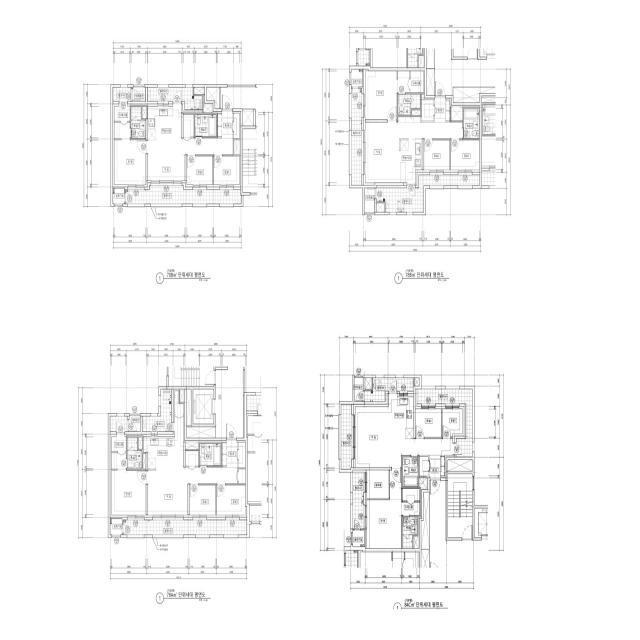space_balconi: (376, 175, 479, 212), (417, 389, 472, 457), (125, 186, 241, 204), (123, 520, 247, 535), (142, 389, 171, 432), (148, 87, 202, 110), (365, 378, 414, 402), (351, 88, 362, 185), (341, 405, 351, 470), (353, 472, 363, 529), (113, 87, 131, 101)
space_bedroom: (367, 470, 401, 548), (365, 71, 397, 119), (112, 470, 146, 515), (114, 140, 146, 184), (451, 140, 479, 170), (217, 485, 245, 515), (424, 140, 450, 170), (190, 485, 216, 515), (187, 156, 213, 185), (415, 409, 441, 437), (214, 156, 239, 185), (442, 409, 462, 437)
space_dressroom: (114, 104, 130, 139), (398, 71, 423, 93), (112, 434, 126, 469), (402, 489, 419, 515)
space_elevator: (193, 389, 214, 424)
space_elevator_hall: (216, 370, 243, 438)
space_front: (222, 439, 238, 467), (217, 111, 233, 138), (435, 97, 450, 122), (429, 455, 445, 476)
space_kitchen: (143, 391, 183, 468), (148, 104, 181, 138), (389, 394, 413, 439), (399, 139, 422, 183)
space_living_room: (365, 117, 463, 183), (355, 407, 453, 467), (148, 467, 238, 515), (148, 138, 233, 181)
space_multipurpose_space: (367, 470, 389, 498)
space_other: (110, 416, 140, 432), (421, 492, 429, 549), (187, 427, 216, 438), (206, 87, 220, 109), (448, 460, 472, 471), (183, 114, 194, 137), (422, 100, 434, 121), (354, 378, 363, 402), (365, 188, 374, 212), (185, 451, 199, 466), (132, 87, 146, 101), (419, 457, 428, 476), (243, 109, 253, 126), (451, 107, 463, 121), (239, 442, 245, 468), (234, 113, 240, 138), (187, 389, 191, 425), (185, 442, 199, 449), (239, 469, 245, 484), (234, 140, 240, 155), (419, 478, 427, 488), (365, 378, 372, 389), (376, 203, 384, 212), (194, 87, 204, 94), (204, 105, 212, 113), (142, 107, 147, 119), (138, 437, 142, 449), (414, 536, 418, 548), (143, 454, 146, 469), (180, 391, 184, 402), (412, 110, 420, 115), (415, 378, 419, 386)
space_outdoor_room: (351, 69, 363, 87), (353, 530, 364, 547), (113, 188, 124, 204)
space_staircase: (448, 474, 472, 538)
space_toilet: (200, 443, 221, 466), (195, 114, 216, 137), (402, 457, 418, 487), (127, 437, 142, 469), (131, 107, 146, 138), (464, 108, 479, 139), (402, 517, 417, 548), (398, 94, 420, 115)
